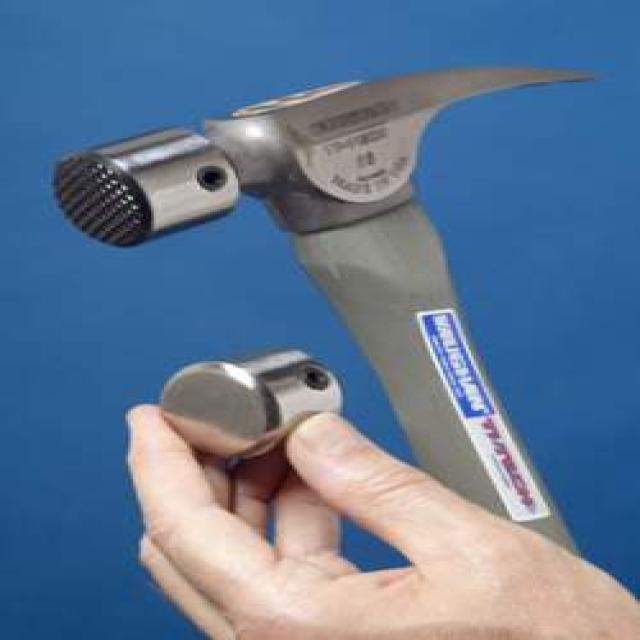hammer: (11, 25, 620, 423)
